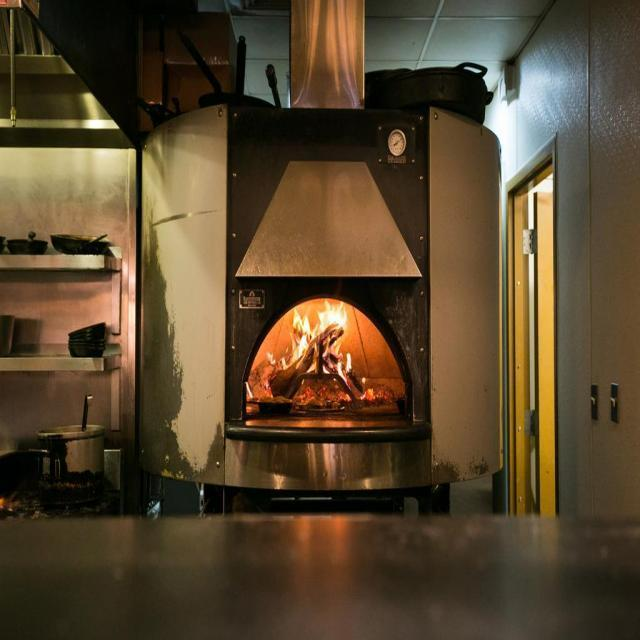fire: (292, 300, 361, 393)
